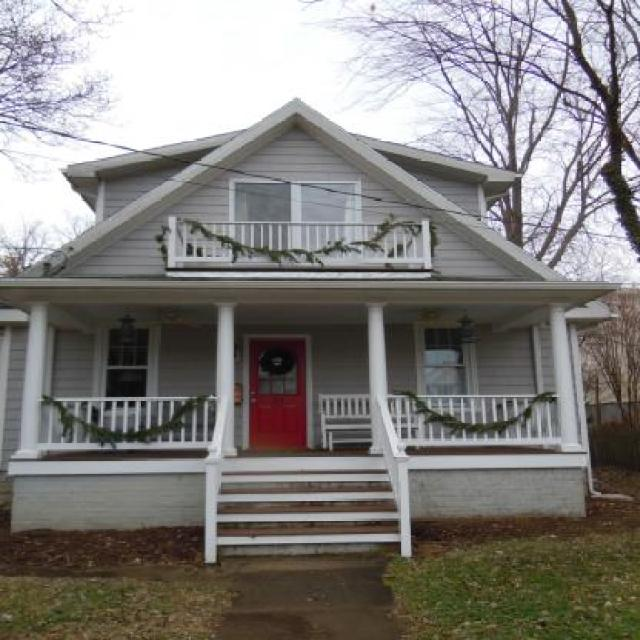stair: (211, 454, 398, 558)
